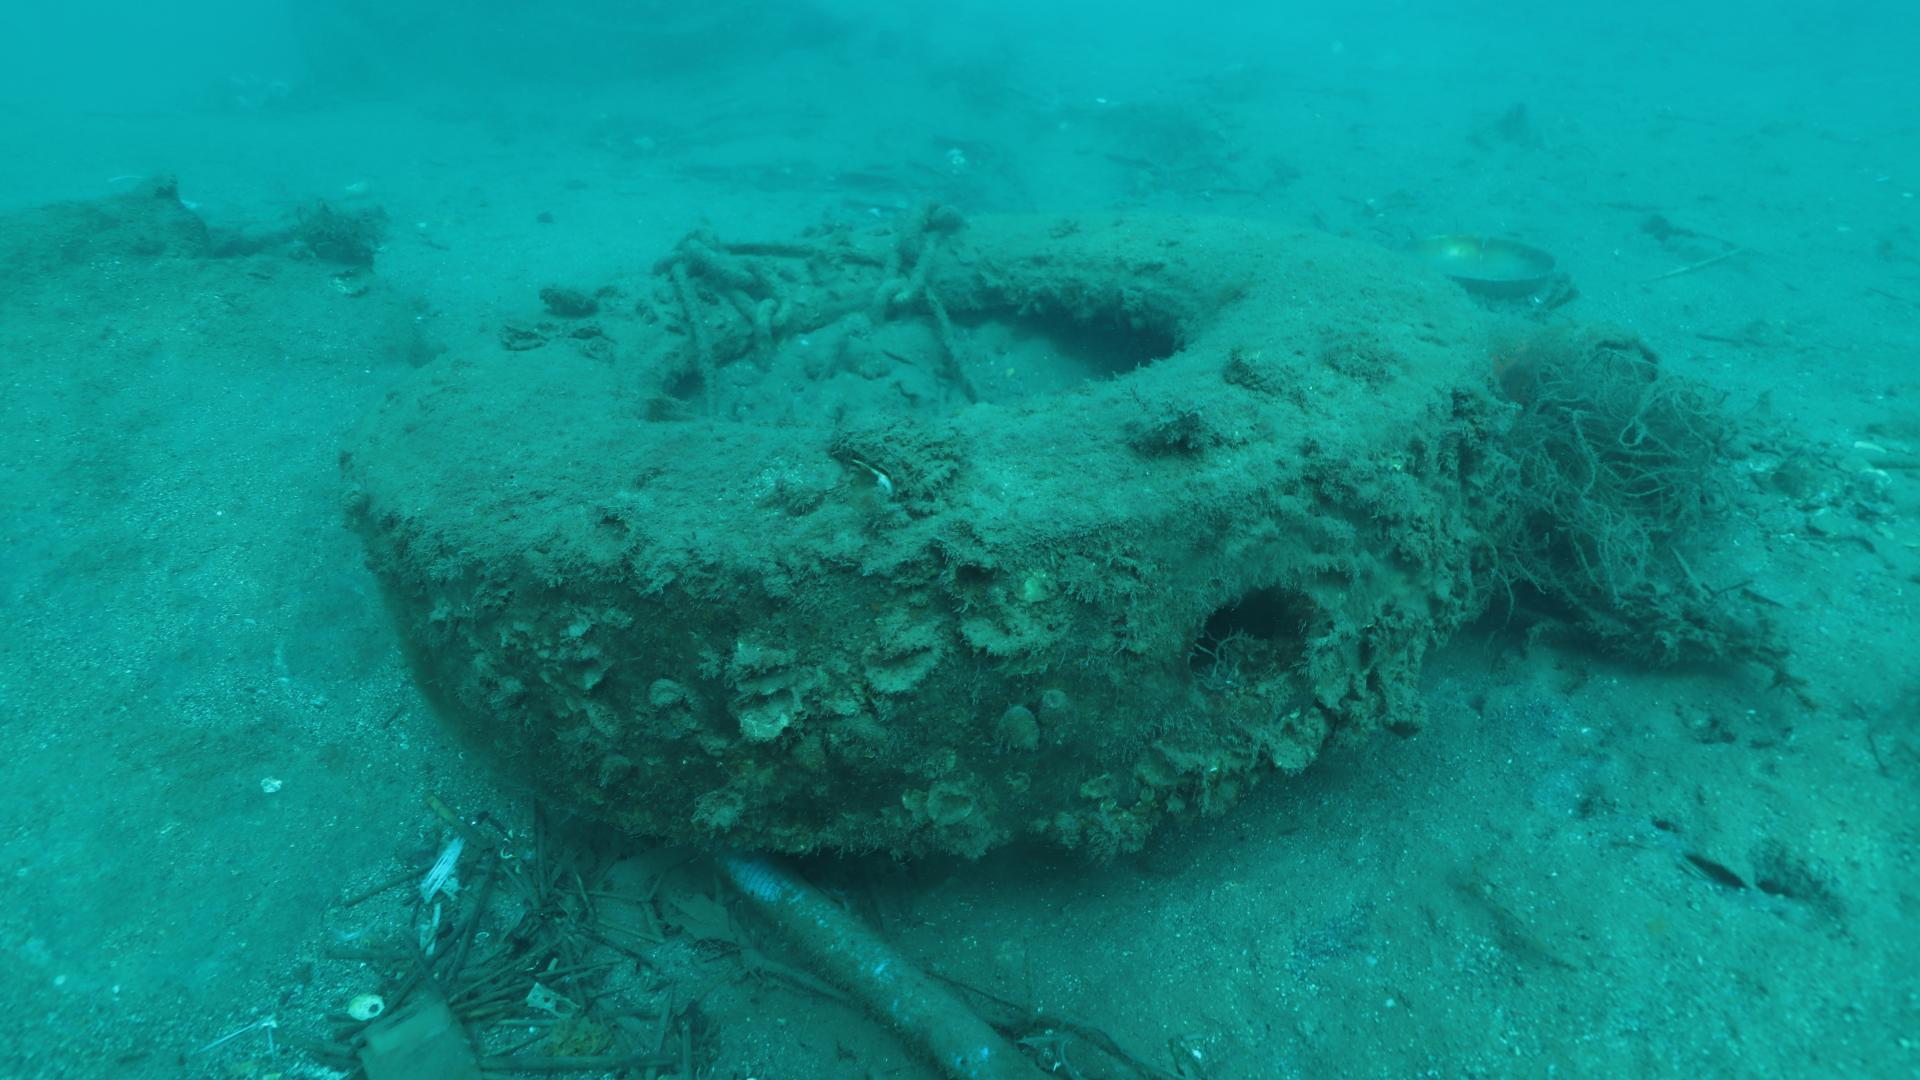tire: (345, 208, 1484, 849)
